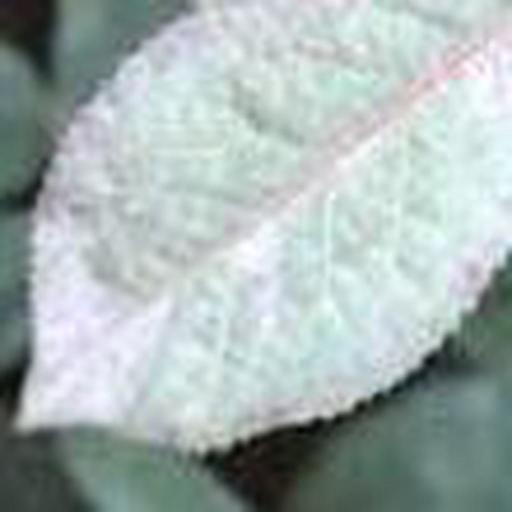powdery_mildew: (18, 0, 512, 454)
